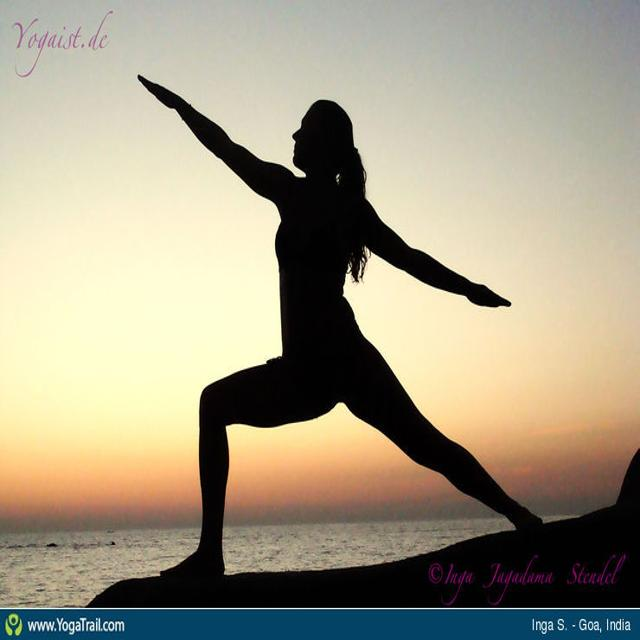Warrior_II: (136, 68, 544, 585)
